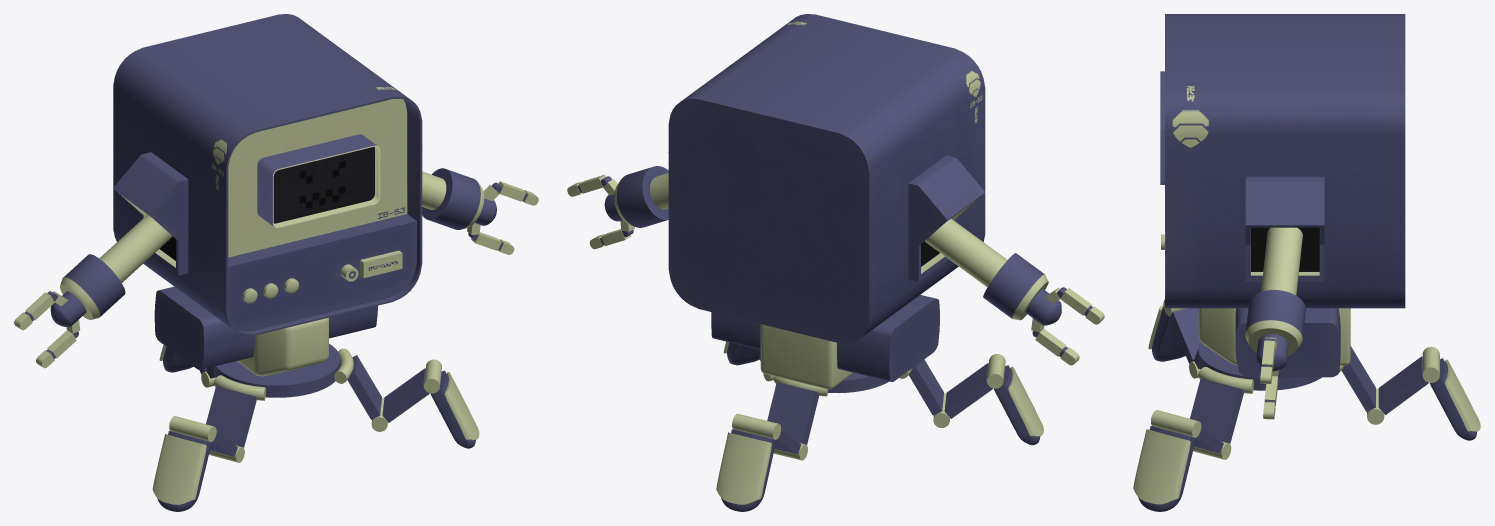
3 views of the same model, side by side, from view 1: azimuth 30°, elevation 25°; view 2: azimuth 150°, elevation 25°; view 3: azimuth 270°, elevation 25° (orthographic). The views are drawn at different scales.
Parts seen in each view (by area): view 1: base_Cube.001, BezierCurve.001, Cube.001_Cube.002, Circle.002, Cube.001_Cube.001, Cube_Cube.006; view 2: base_Cube.001, BezierCurve.001, Cube.001_Cube.002, Circle.002, Cube_Cube.006; view 3: base_Cube.001, BezierCurve.001, Cube_Cube.006, Cube.001_Cube.002, Circle.002, Cube.001_Cube.001.
Boxes of the visible parts, x1=… form: base_Cube.001: x1=113, y1=14, x2=422, y2=335; BezierCurve.001: x1=152, y1=344, x2=479, y2=511; Cube.001_Cube.002: x1=154, y1=286, x2=377, y2=376; Circle.002: x1=14, y1=168, x2=538, y2=368; Cube.001_Cube.001: x1=257, y1=134, x2=380, y2=228; Cube_Cube.006: x1=99, y1=152, x2=446, y2=282; base_Cube.001: x1=668, y1=14, x2=985, y2=343; BezierCurve.001: x1=716, y1=341, x2=1043, y2=511; Cube.001_Cube.002: x1=711, y1=295, x2=939, y2=389; Circle.002: x1=567, y1=166, x2=1104, y2=365; Cube_Cube.006: x1=650, y1=152, x2=1007, y2=287; base_Cube.001: x1=1161, y1=14, x2=1405, y2=308; BezierCurve.001: x1=1133, y1=299, x2=1480, y2=511; Cube_Cube.006: x1=1245, y1=176, x2=1324, y2=295; Cube.001_Cube.002: x1=1198, y1=308, x2=1350, y2=377; Circle.002: x1=1245, y1=290, x2=1305, y2=419; Cube.001_Cube.001: x1=1160, y1=71, x2=1164, y2=184.
Bounding box in the file's own units: 5.32 × 3.53 × 2.89.
6 materials, 6 textured.
